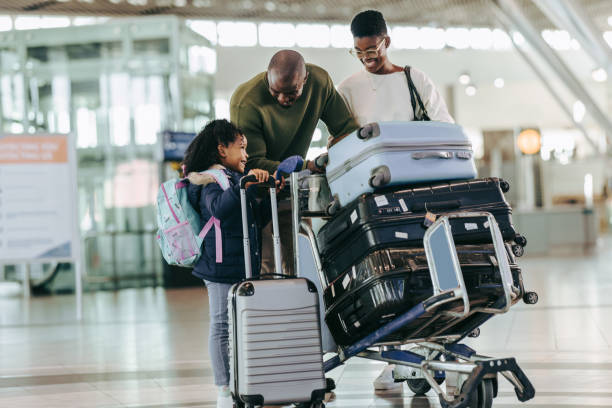without mask: (266, 64, 308, 107), (350, 28, 392, 71), (218, 133, 249, 175)
